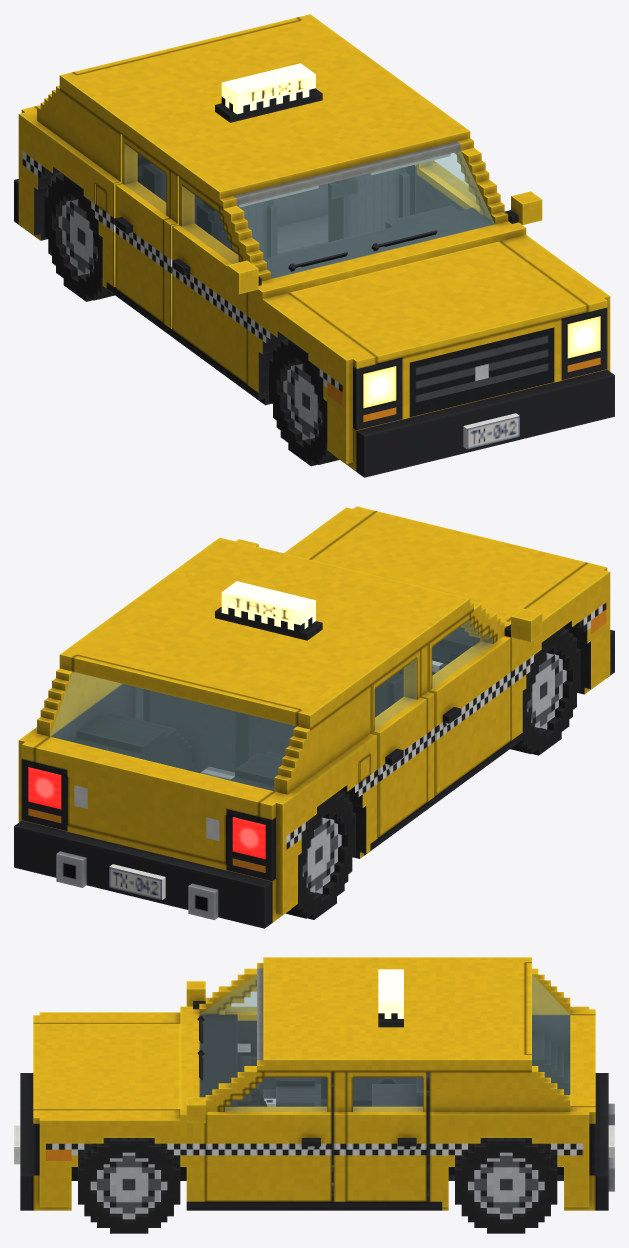
Rendered from Voxel_Taxi.glb.
The picture shows the model from 3 angles, top to bottom: view 1: azimuth 30°, elevation 25°; view 2: azimuth 150°, elevation 25°; view 3: azimuth 270°, elevation 25°; orthographic projection. The views are drawn at different scales.
Parts seen in each view (by area): view 1: Body, Roof, Hood, Glass_Windshield, FrontBumper, Door_R, RearDoor_R, SeatBack_L, TaxiSign, Tire_FR, RearSeatBack, Tire_RR (+13 smaller); view 2: Body, Roof, Hatch, Glass_Hatch, Hood, Door_R, RearBumper, RearDoor_R, RearSeatBack, TaxiSign, Tire_FR, Tire_RR (+8 smaller); view 3: Body, Roof, Door_L, Hood, RearDoor_L, Tire_RL, Tire_FL, Glass_Windshield, Wheel_RL, Wheel_FL, Glass_Hatch, Hatch (+13 smaller).
Part boxes in pixels (x1,y1,x2,y2): Body: (18,85,610,471); Roof: (59,14,473,208); Hood: (289,241,587,363); Glass_Windshield: (238,151,494,278); FrontBumper: (356,369,614,477); Door_R: (172,177,247,384); RearDoor_R: (115,135,169,323); SeatBack_L: (328,167,409,242); TaxiSign: (215,63,322,122); Tire_FR: (269,339,339,466); RearSeatBack: (143,164,328,254); Tire_RR: (44,174,114,301); Body: (18,506,610,922); Roof: (59,537,473,729); Hatch: (34,655,300,863); Glass_Hatch: (50,672,296,790); Hood: (310,511,587,621); Door_R: (428,613,510,795); RearBumper: (14,820,272,928); RearDoor_R: (371,649,427,836); RearSeatBack: (143,689,296,773); TaxiSign: (215,581,322,640); Tire_FR: (510,628,580,755); Tire_RR: (285,792,355,919); Body: (33,968,595,1210); Roof: (257,957,531,1071); Door_L: (205,1071,331,1201); Hood: (33,1023,180,1109); RearDoor_L: (346,1071,426,1201); Tire_RL: (455,1138,557,1233); Tire_FL: (78,1138,180,1233); Glass_Windshield: (199,975,256,1096); Wheel_RL: (468,1152,544,1219); Wheel_FL: (90,1152,167,1219); Glass_Hatch: (532,975,569,1094); Hatch: (525,962,595,1106).
Size of the model in its own units: 2.3 by 1.7 by 4.7.
10 materials, 9 textured.
